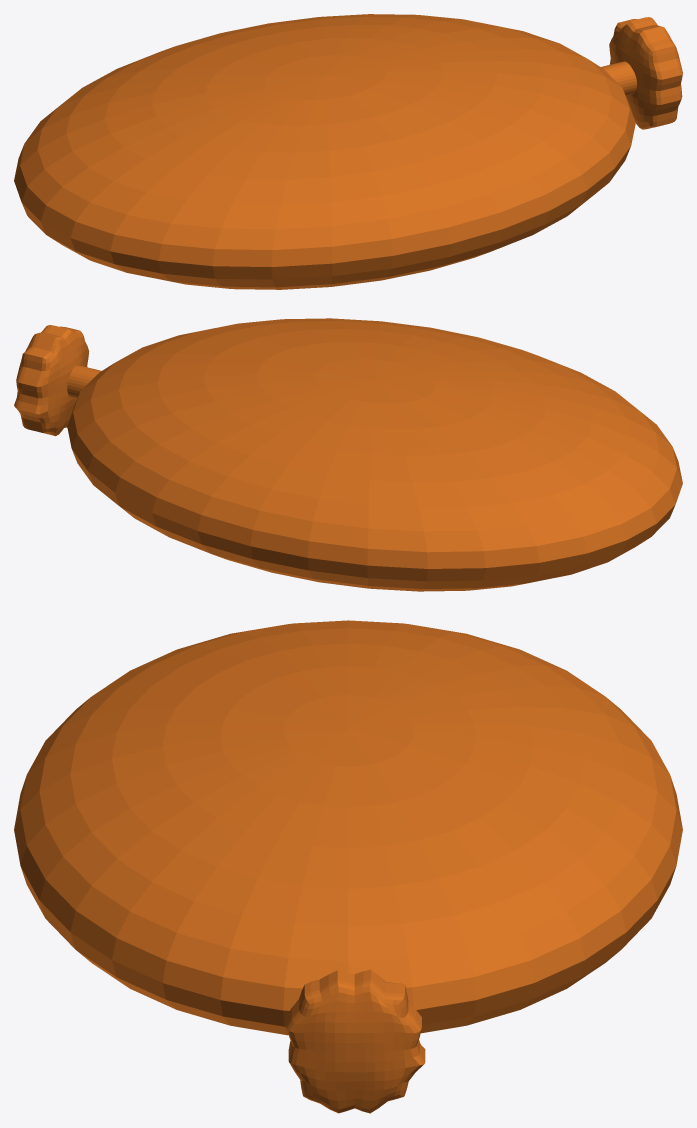
File: zaprta_ura.fbx
3 views of the same model, one above another, from view 1: azimuth 30°, elevation 25°; view 2: azimuth 150°, elevation 25°; view 3: azimuth 270°, elevation 25° (orthographic). The views are drawn at different scales.
Visible parts, largest first — view 1: Sphere, Cube.001, Cylinder; view 2: Sphere, Cube.001, Cylinder; view 3: Sphere, Cube.001.
Boxes of the visible parts, x1=… form: Sphere: x1=14, y1=14, x2=635, y2=289; Cube.001: x1=609, y1=17, x2=682, y2=129; Cylinder: x1=601, y1=61, x2=637, y2=95; Sphere: x1=67, y1=318, x2=682, y2=591; Cube.001: x1=14, y1=325, x2=89, y2=436; Cylinder: x1=67, y1=365, x2=101, y2=399; Sphere: x1=14, y1=620, x2=682, y2=1035; Cube.001: x1=286, y1=969, x2=425, y2=1113.
Size of the model in its own units: 177 by 40.92 by 123.
